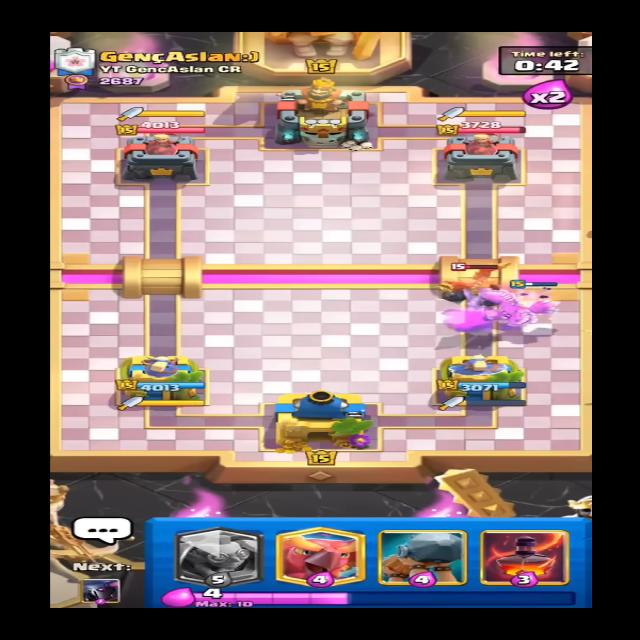phoenix: (430, 258, 514, 296)
